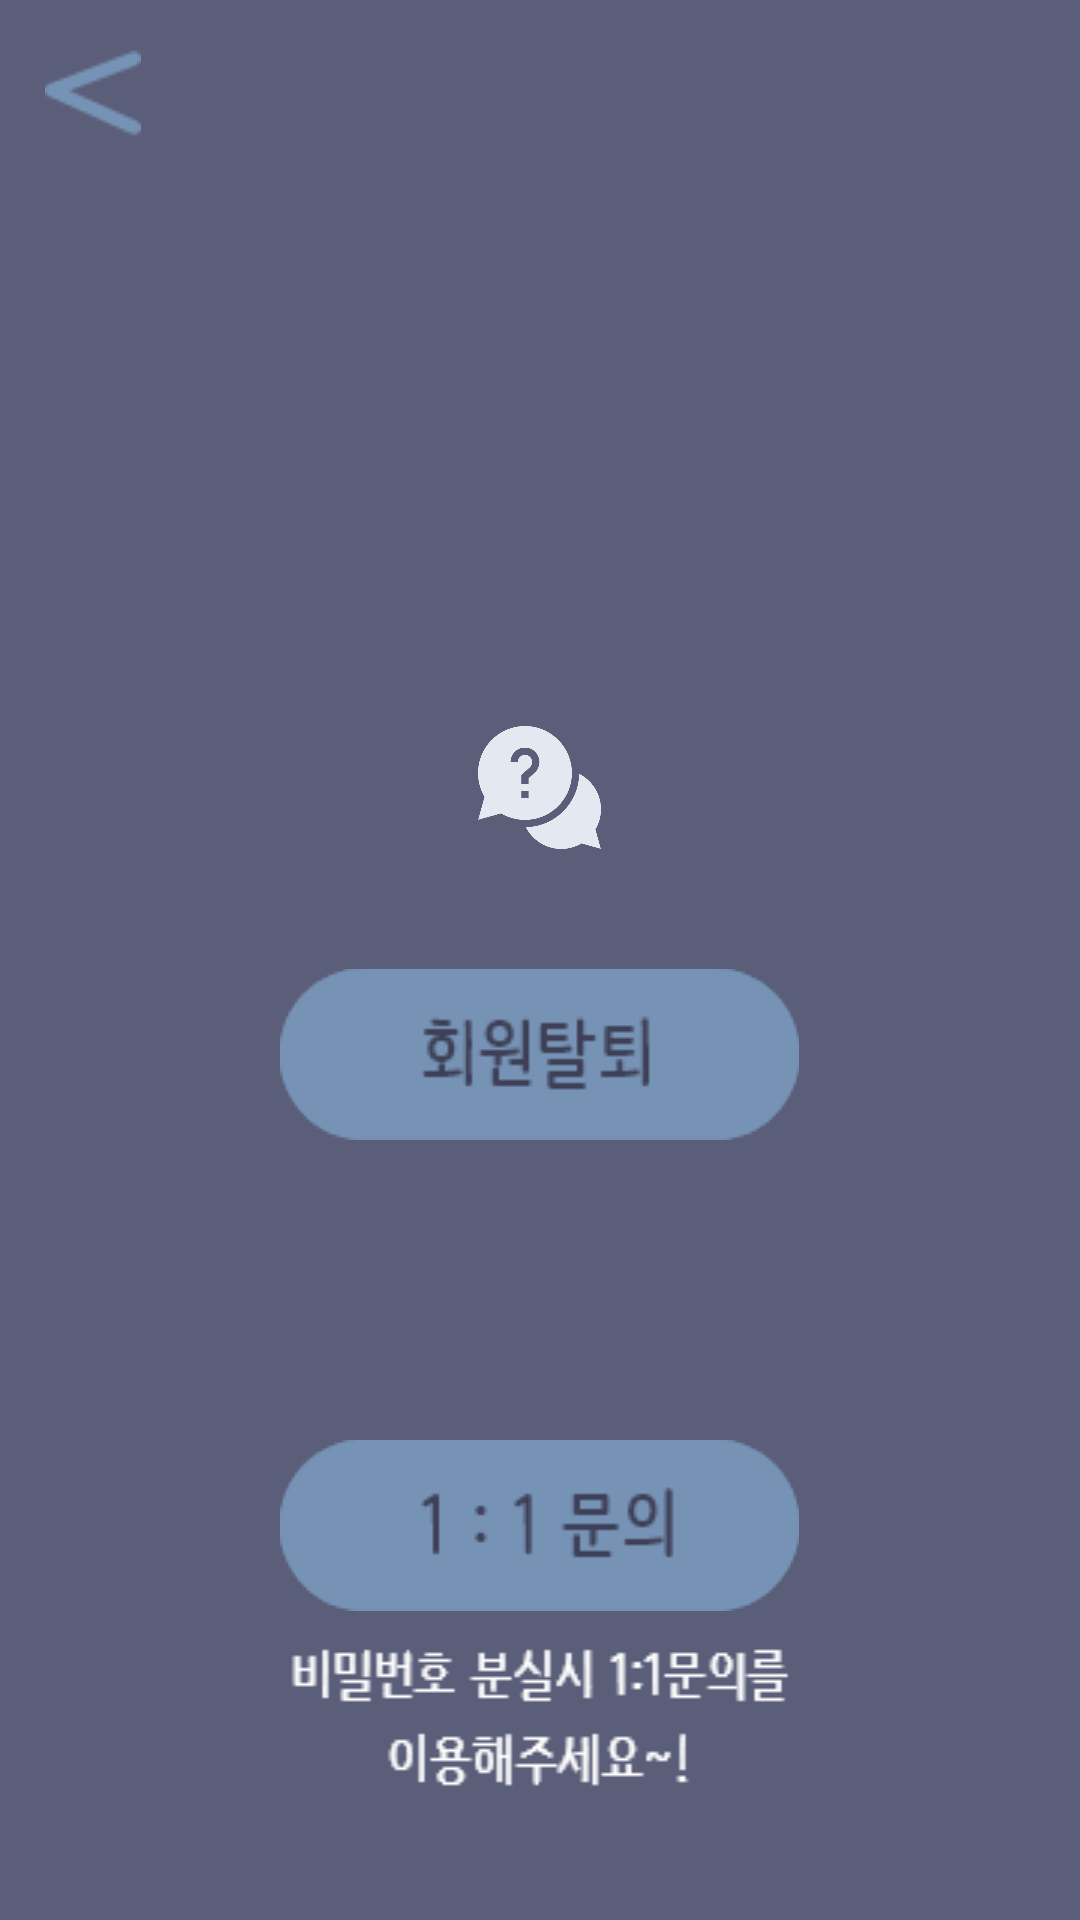

Locate icon controls on the screen. Image size 1080x1920, boxes as [x1,y1,x2,y2].
goback: [45,51,141,135]
help: [478,726,601,849]
